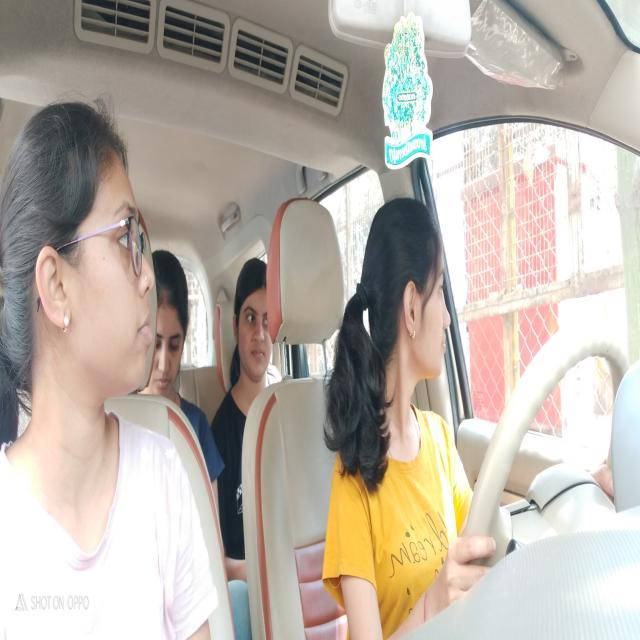LeftRight: (360, 182, 459, 412)
person: (6, 92, 157, 424), (149, 238, 193, 404), (230, 253, 278, 381)
